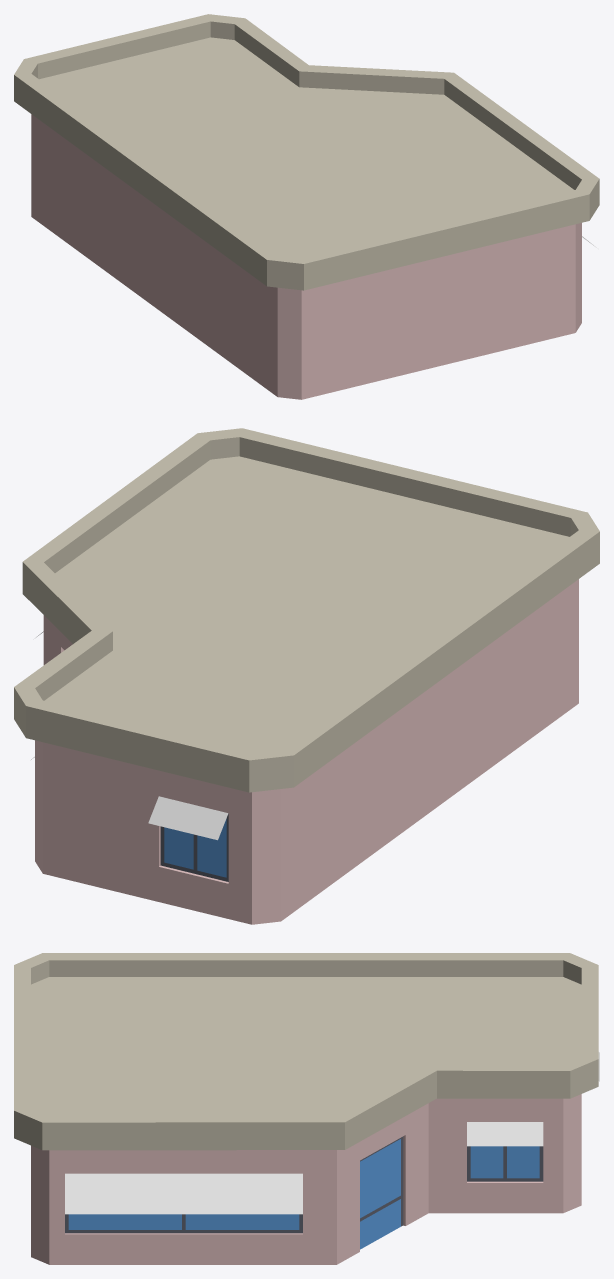
The model's file is cafe_p2.fbx.
3 renders of one model, top to bottom at view 1: azimuth 30°, elevation 25°; view 2: azimuth 150°, elevation 25°; view 3: azimuth 270°, elevation 25°, orthographic. The views are drawn at different scales.
Parts seen in each view (by area): view 1: Cafe2.003; view 2: Cafe2.003; view 3: Cafe2.003.
Boxes of the visible parts, x1,y1,x2,y2 form: Cafe2.003: (14, 14, 599, 399); Cafe2.003: (14, 428, 599, 924); Cafe2.003: (14, 953, 599, 1264).
Bounding box in the file's own units: 6777 × 2696 × 9577.
